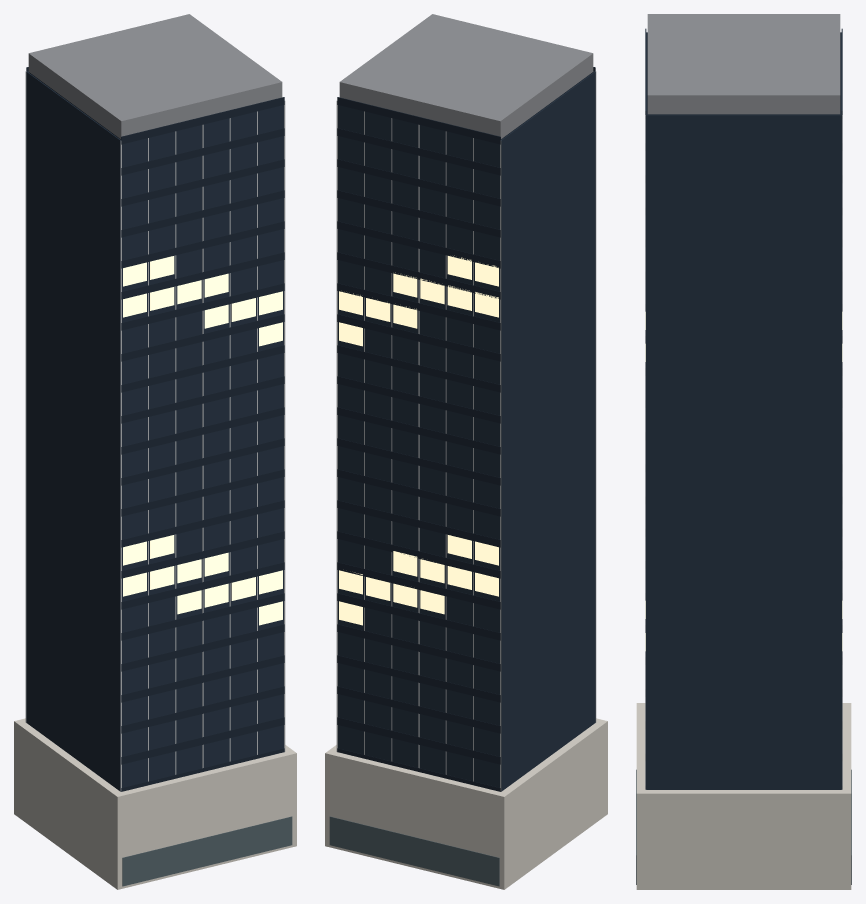
File: tower_res_blue_24.glb
The picture shows the model from 3 angles, left to right: view 1: azimuth 30°, elevation 25°; view 2: azimuth 150°, elevation 25°; view 3: azimuth 270°, elevation 25°; orthographic projection. The views are drawn at different scales.
Visible parts, largest first — view 1: tower_res_blue_24; view 2: tower_res_blue_24; view 3: tower_res_blue_24.
Boxes of the visible parts, x1=… form: tower_res_blue_24: x1=14, y1=14, x2=296, y2=889; tower_res_blue_24: x1=325, y1=14, x2=607, y2=889; tower_res_blue_24: x1=636, y1=14, x2=851, y2=889.
Size of the model in its own units: 22.4 by 91 by 22.54.
